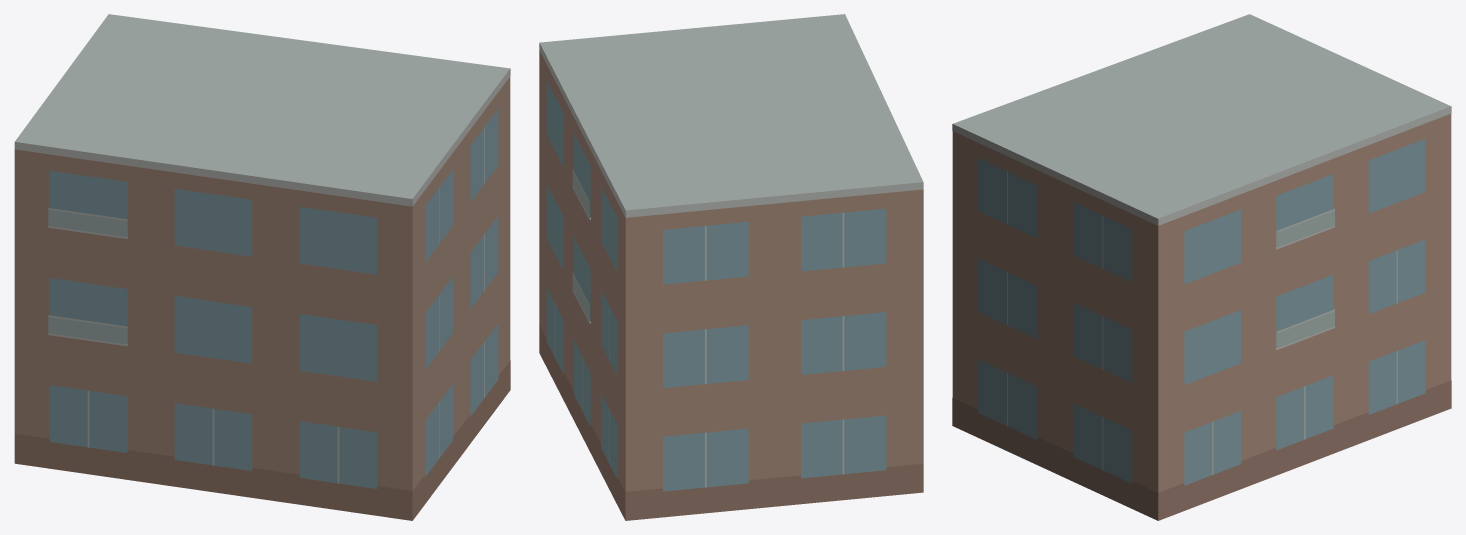
Rendered from survey-upis-32855617.glb.
3 renders of one model, left to right at view 1: azimuth 30°, elevation 25°; view 2: azimuth 150°, elevation 25°; view 3: azimuth 270°, elevation 25°, orthographic. The views are drawn at different scales.
Parts seen in each view (by area): view 1: survey-upis-32855617.tmp; view 2: survey-upis-32855617.tmp; view 3: survey-upis-32855617.tmp.
Part boxes in pixels (x1,y1,x2,y2): survey-upis-32855617.tmp: (14, 14, 510, 520); survey-upis-32855617.tmp: (539, 14, 923, 520); survey-upis-32855617.tmp: (952, 14, 1451, 520).
Bounding box in the file's own units: 15.13 × 10.4 × 15.57.
